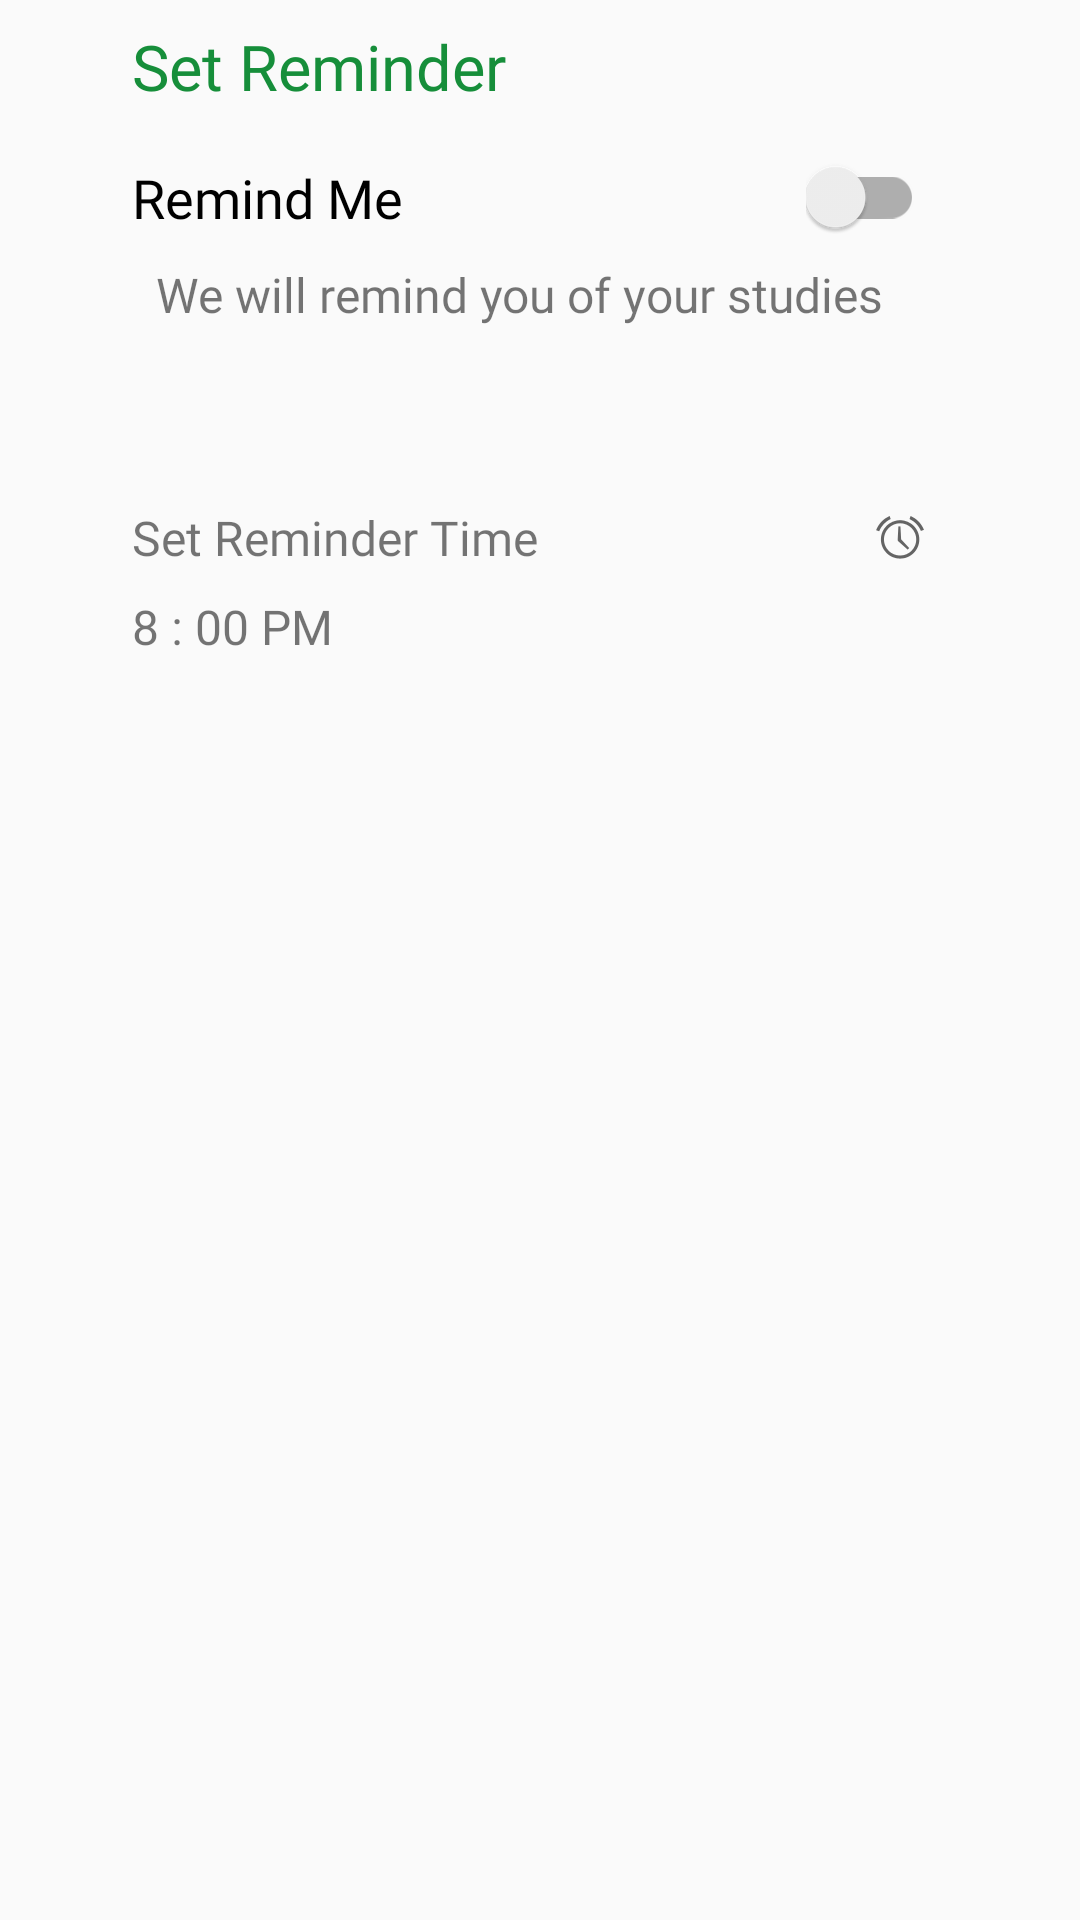

Named icons in this screenshot (1080*1920) and their centers, point (x, y):
lock idle alarm: point (900, 537)
